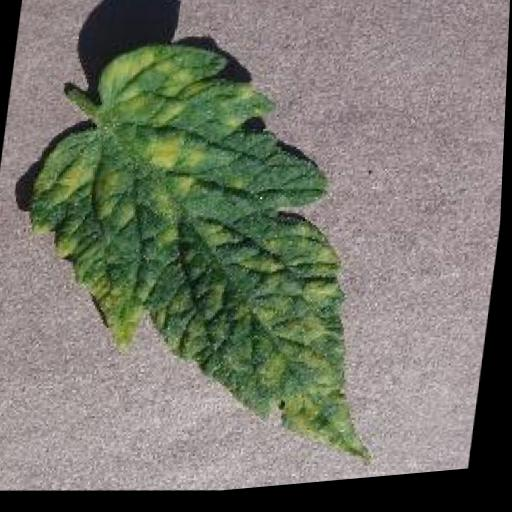Leaf Mold: (0, 26, 424, 499)
